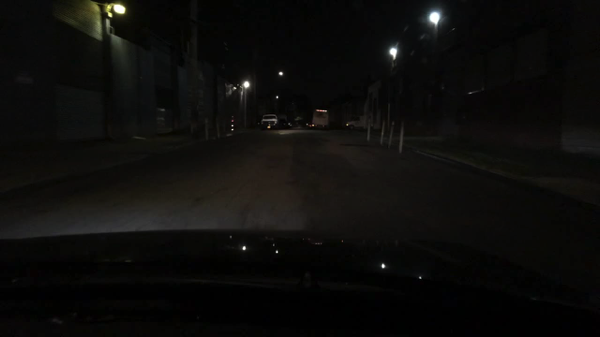car: (260, 114, 279, 132), (345, 116, 364, 132), (303, 121, 310, 128), (288, 122, 293, 128), (294, 122, 299, 128)
truck: (309, 110, 330, 129), (277, 114, 289, 129)
